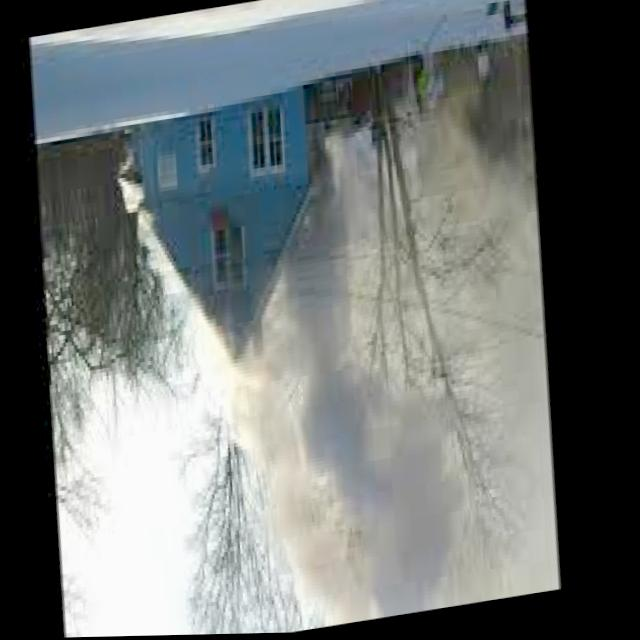no_helmet: (195, 120, 595, 636)
